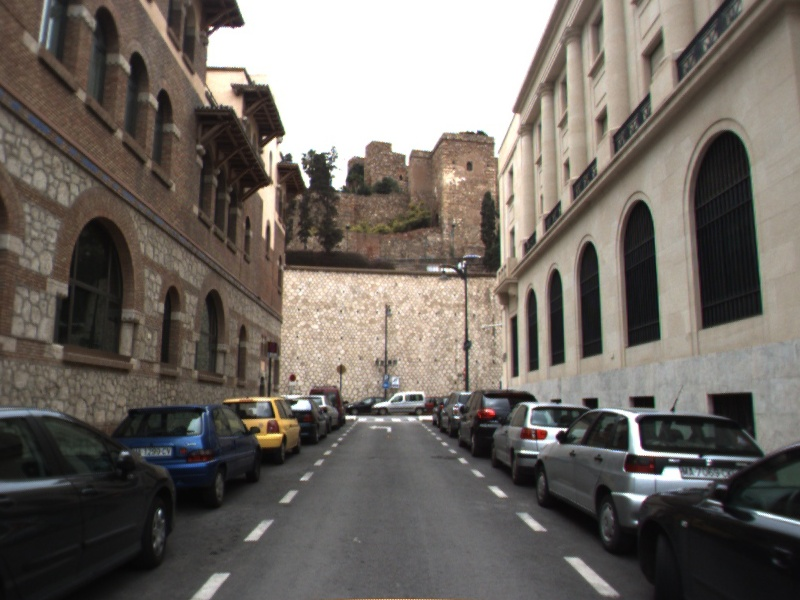LEFT: (367, 423, 394, 434)
